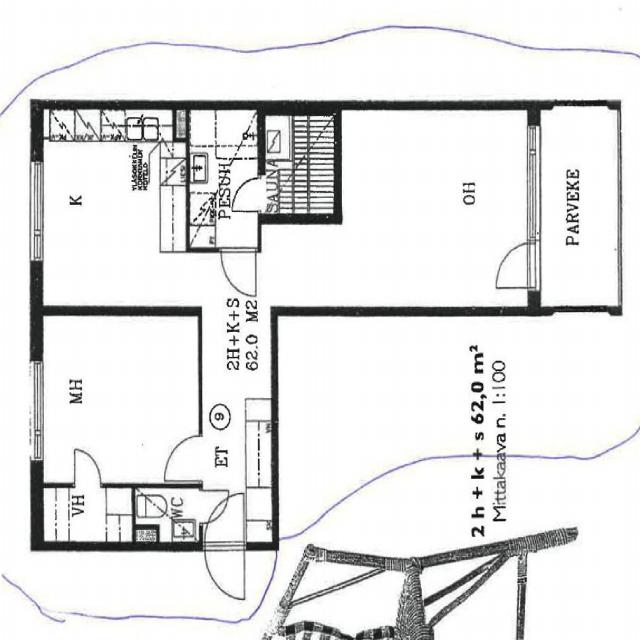door: (204, 542, 244, 601), (204, 491, 244, 550), (492, 243, 540, 288), (163, 436, 203, 482), (221, 247, 255, 296), (231, 177, 265, 211), (74, 450, 100, 488), (199, 491, 228, 523)
